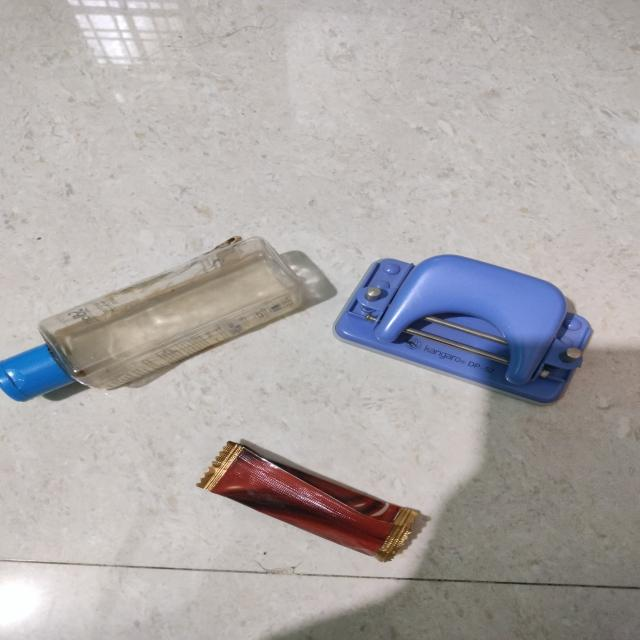metal: (336, 250, 589, 402)
plastic: (0, 234, 306, 402), (198, 438, 422, 562)
